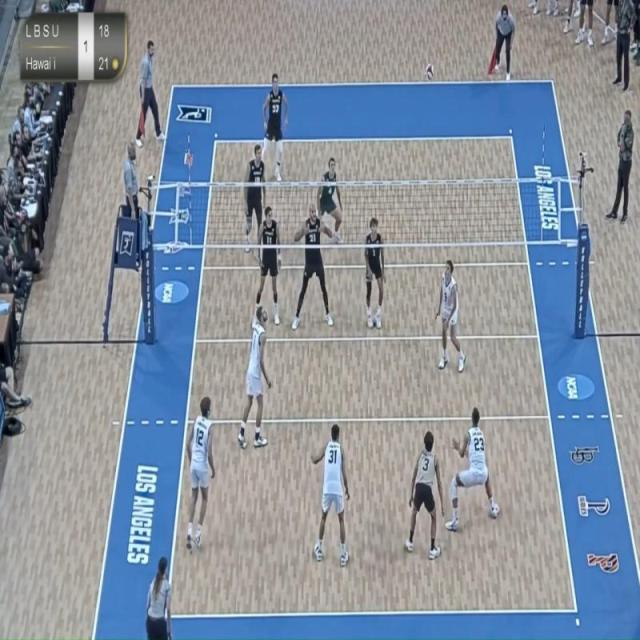volleyball: (424, 61, 437, 86)
